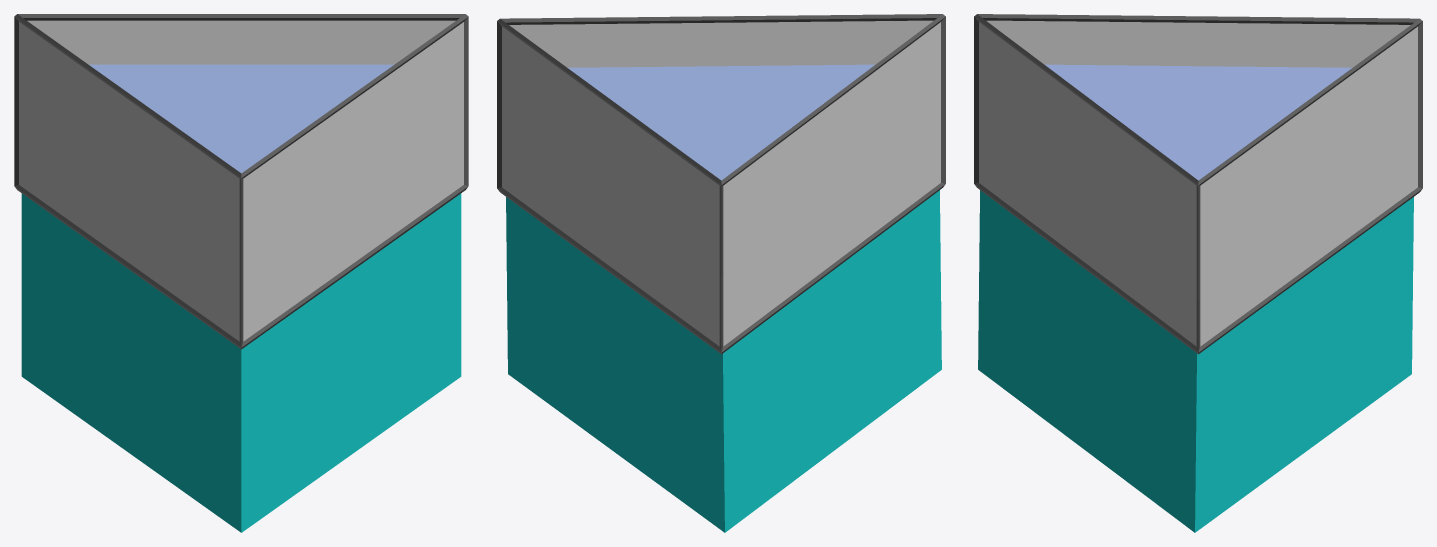
Rendered from Aquarium.fbx.
The picture shows the model from 3 angles, left to right: view 1: azimuth 30°, elevation 25°; view 2: azimuth 150°, elevation 25°; view 3: azimuth 270°, elevation 25°; orthographic projection.
Parts seen in each view (by area): view 1: Mod_Floor__44_.003, Mod_Floor__44_.005, Mod_Floor__44_.004, Mod_Floor__44_.001; view 2: Mod_Floor__44_.003, Mod_Floor__44_.005, Mod_Floor__44_.004, Mod_Floor__44_.001; view 3: Mod_Floor__44_.003, Mod_Floor__44_.005, Mod_Floor__44_.004, Mod_Floor__44_.001.
Part boxes in pixels (<box>): Mod_Floor__44_.003: <box>19,20,463,341</box>; Mod_Floor__44_.005: <box>21,193,461,532</box>; Mod_Floor__44_.004: <box>89,64,393,173</box>; Mod_Floor__44_.001: <box>14,14,468,349</box>; Mod_Floor__44_.003: <box>502,20,940,346</box>; Mod_Floor__44_.005: <box>506,190,941,532</box>; Mod_Floor__44_.004: <box>567,64,874,180</box>; Mod_Floor__44_.001: <box>497,14,945,354</box>; Mod_Floor__44_.003: <box>979,20,1417,346</box>; Mod_Floor__44_.005: <box>978,190,1413,532</box>; Mod_Floor__44_.004: <box>1045,64,1352,180</box>; Mod_Floor__44_.001: <box>974,14,1422,354</box>.
Size of the model in its own units: 1066 by 1089 by 1231.
